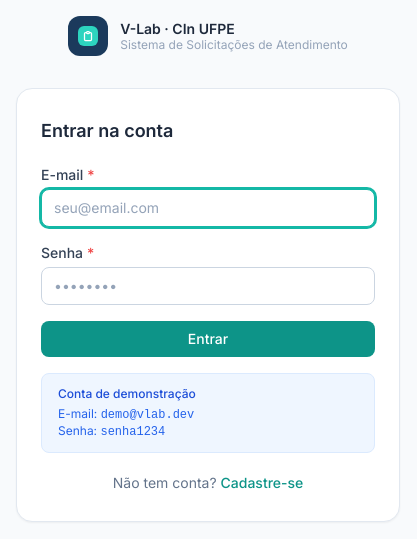
Test: Login › desabilita botão enquanto loading
Type "a@b.com" into the field with placeholder "seu@email.com" at (208,208), box [41,189,375,227]
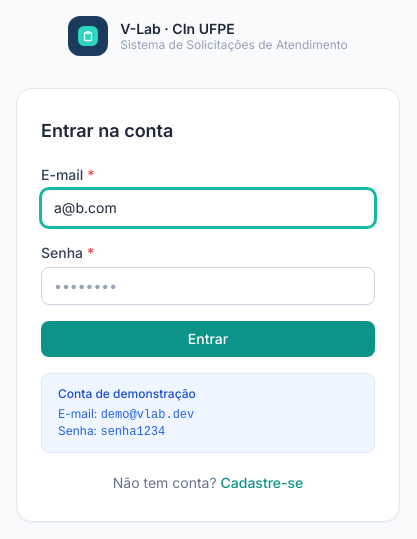
Type "senha1234" into the password field with placeholder "••••••••" at (208,286), box [41,267,375,305]
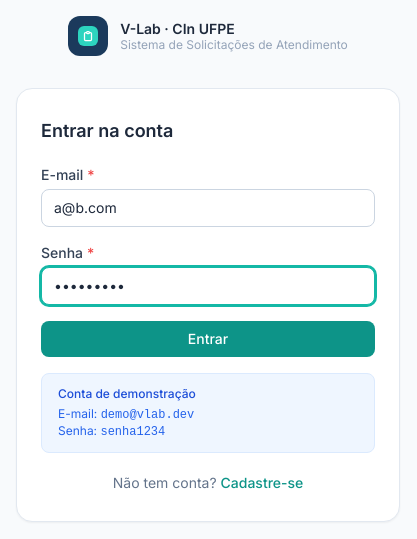
Click the button "Entrar" at (208,339), box [41,321,375,357]
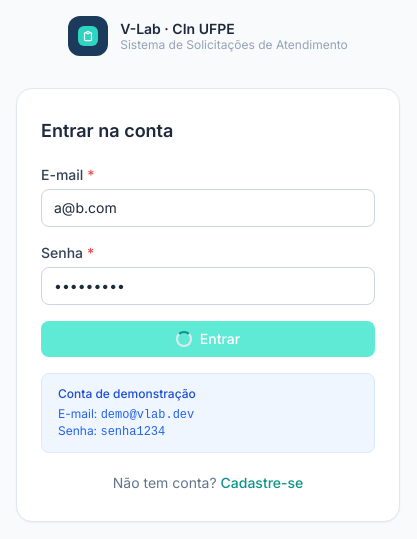
Expected: the button "Entrar" is disabled, [41,321,375,357]
